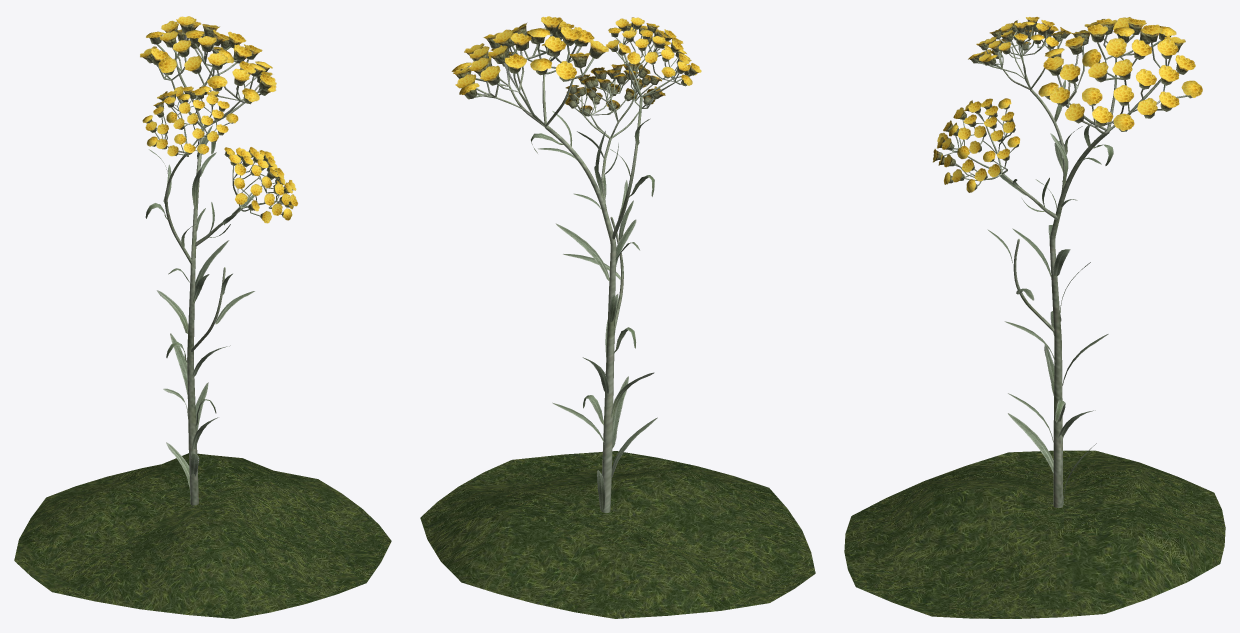
File: Elicriso.glb
3 views of the same model, side by side, from view 1: azimuth 30°, elevation 25°; view 2: azimuth 150°, elevation 25°; view 3: azimuth 270°, elevation 25° (orthographic). The views are drawn at different scales.
Visible parts, largest first — view 1: Erba, FioreSingolo.014, GamboBase.004, FoglieElicriso, Elicriso, GamboBase.005; view 2: Erba, FioreSingolo.014, FoglieElicriso, Elicriso, GamboBase.004, GamboBase.005; view 3: Erba, FioreSingolo.014, GamboBase.005, Elicriso, FoglieElicriso, GamboBase.004.
Part boxes in pixels (bbox=[...]): Erba: bbox=[14, 453, 391, 618]; FioreSingolo.014: bbox=[140, 16, 276, 104]; GamboBase.004: bbox=[142, 86, 238, 264]; FoglieElicriso: bbox=[145, 125, 254, 488]; Elicriso: bbox=[156, 32, 261, 505]; GamboBase.005: bbox=[195, 147, 297, 246]; Erba: bbox=[420, 451, 815, 618]; FioreSingolo.014: bbox=[451, 16, 608, 99]; FoglieElicriso: bbox=[531, 110, 657, 510]; Elicriso: bbox=[475, 33, 616, 512]; GamboBase.004: bbox=[606, 17, 701, 239]; GamboBase.005: bbox=[565, 62, 665, 209]; Erba: bbox=[844, 450, 1225, 618]; FioreSingolo.014: bbox=[1038, 17, 1202, 131]; GamboBase.005: bbox=[932, 98, 1057, 219]; Elicriso: bbox=[1049, 35, 1187, 507]; FoglieElicriso: bbox=[987, 79, 1113, 505]; GamboBase.004: bbox=[968, 17, 1071, 192].
Bounding box in the file's own units: 7.46 × 10.86 × 7.02.
Materials: 4 (4 with a texture image).
